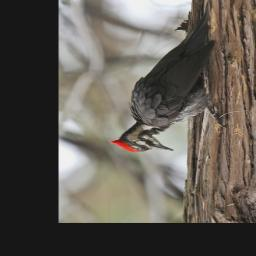Woodpecker: (110, 1, 228, 153)
